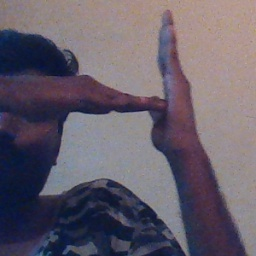Z: (92, 6, 207, 154)
